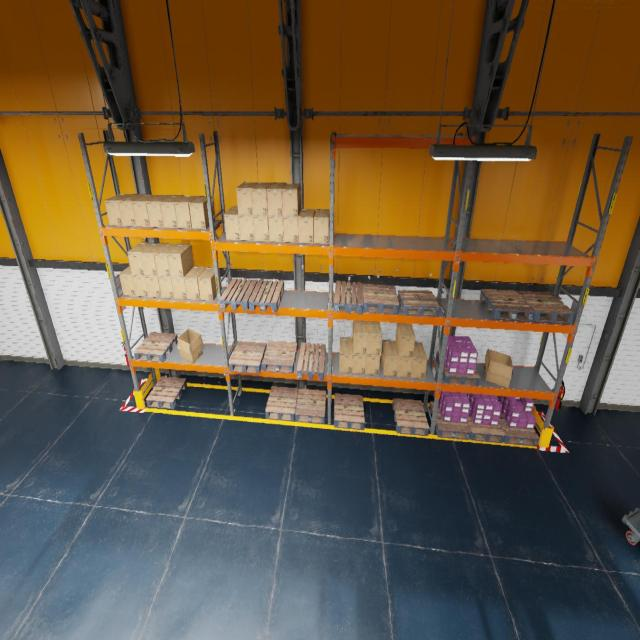box: (484, 349, 513, 388), (104, 194, 132, 226), (167, 244, 194, 277), (118, 194, 145, 227), (177, 329, 203, 363), (140, 243, 166, 276), (127, 242, 153, 275), (189, 196, 215, 229), (132, 194, 158, 227), (146, 195, 172, 227), (160, 195, 185, 228), (174, 196, 199, 228), (198, 266, 221, 300), (154, 244, 178, 276), (184, 266, 206, 300), (236, 182, 257, 215), (395, 323, 415, 357), (266, 182, 286, 215), (252, 182, 272, 215), (395, 341, 413, 377), (381, 340, 399, 376), (282, 183, 301, 216), (411, 342, 427, 379), (298, 209, 315, 243), (366, 321, 382, 355), (352, 320, 368, 354), (224, 207, 240, 240), (314, 209, 329, 244), (119, 266, 136, 296), (339, 337, 353, 373), (268, 216, 284, 242), (238, 215, 254, 241), (253, 216, 269, 241), (283, 216, 298, 242), (170, 277, 187, 299), (158, 276, 174, 298), (145, 276, 161, 298), (132, 275, 148, 297), (352, 353, 367, 374), (366, 354, 380, 375)
pallets: (516, 290, 575, 323), (480, 288, 534, 320), (429, 401, 471, 440), (436, 352, 480, 386), (392, 398, 429, 436), (499, 412, 539, 446), (146, 376, 187, 409), (134, 332, 177, 362), (228, 341, 266, 373), (220, 278, 258, 310), (265, 386, 298, 421), (294, 388, 326, 424), (248, 280, 284, 312), (467, 413, 505, 443), (262, 341, 297, 373), (363, 283, 399, 314), (398, 290, 440, 316), (297, 342, 325, 380), (334, 394, 364, 429), (334, 281, 363, 314), (636, 521, 640, 533)
